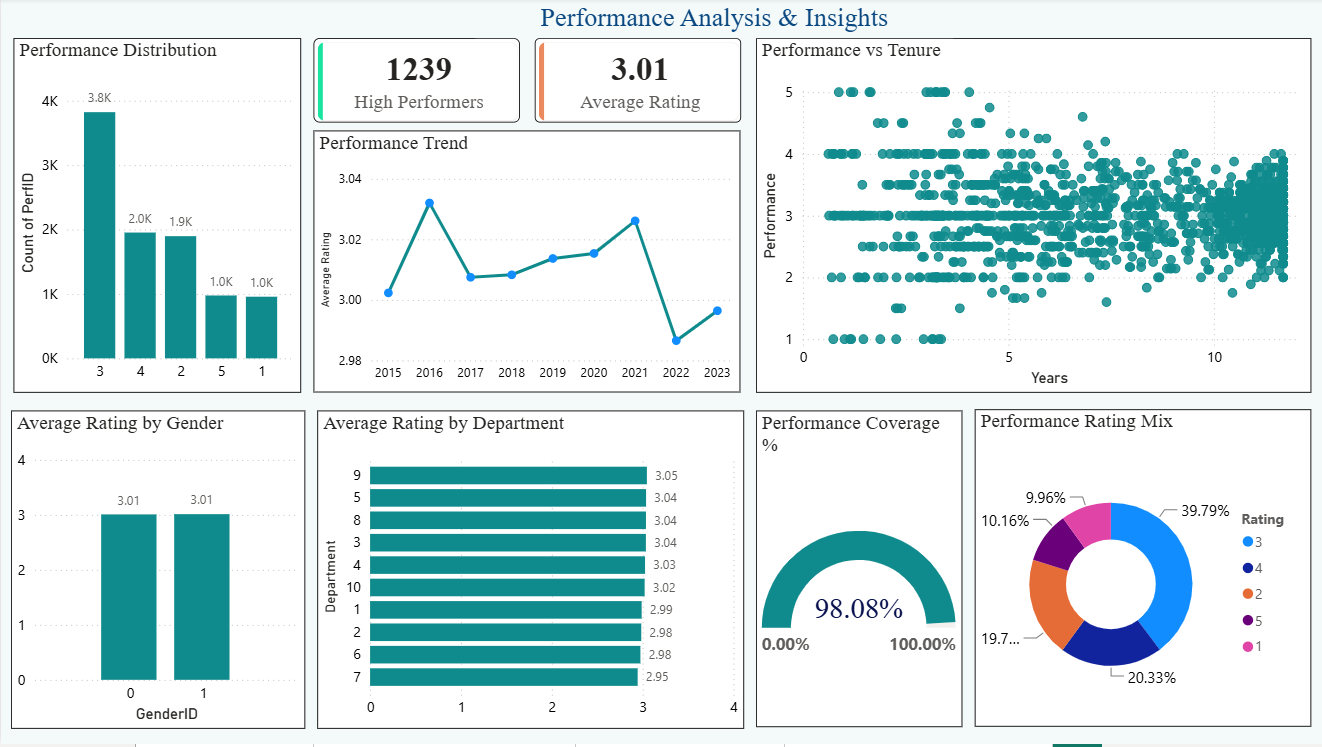

This screenshot's page, from the dashboard's own definition file:
{"tool":"powerbi","page":{"name":"Page 3","canvas":[1280,720],"ordinal":2},"visuals":[{"type":"clusteredColumnChart","title":"Performance Distribution","fields":{"Category":["tbl_Perf.Rating"],"Y":["CountNonNull(tbl_Perf.PerfID)"]},"box":[12.2,39.1,277.6,342.4],"z":0},{"type":"donutChart","title":"Performance Rating Mix","fields":{"Category":["tbl_Perf.Rating"],"Y":["CountNonNull(tbl_Perf.PerfID)"]},"box":[939.8,396.9,324.5,306.4],"z":1000},{"type":"clusteredBarChart","title":"Average Rating by Department","fields":{"Category":["tbl_Employee.DepID"],"Y":["Table.Average Rating"]},"box":[304.9,398.6,412.1,306.9],"z":2000},{"type":"lineChart","title":"Performance Trend","fields":{"Category":["tbl_Perf.PerfDate.Variation.Date Hierarchy.Year"],"Y":["Table.Average Rating"]},"box":[302,128.4,412.1,253.1],"z":3000},{"type":"cardVisual","fields":{"Data":["Table.Average Rating"]},"box":[514.8,39.1,199.3,81.9],"z":4000},{"type":"cardVisual","fields":{"Data":["Table.High Performers"]},"box":[302,39.1,199.3,81.9],"z":5000},{"type":"gauge","fields":{"Y":["Table.Performance Coverage %"]},"box":[728.7,398.1,199.1,305.2],"z":6000},{"type":"scatterChart","title":"Performance vs Tenure","fields":{"Category":["tbl_Employee.EmpID"],"X":["Sum(tbl_Employee.Tenure Years)"],"Y":["Table.Average Rating"]},"box":[728.8,39.1,535.6,342.4],"z":7000},{"type":"clusteredColumnChart","title":"Average Rating by Gender","fields":{"Category":["tbl_Employee.GenderID"],"Y":["Avg(tbl_Perf.Rating)"]},"box":[9.8,398.6,283.7,306.9],"z":8000},{"type":"shape","box":[448.8,0,479.4,39.1],"z":9000}]}

Visuals, with their boxes in screenshot pixels (x1, y1, x2, y2), scaled from the page's 1280x720 canvas onto the 1322x747 screenshot:
"Performance Distribution" clusteredColumnChart: region(13, 41, 299, 396)
"Performance Rating Mix" donutChart: region(971, 412, 1306, 730)
"Average Rating by Department" clusteredBarChart: region(315, 414, 741, 732)
"Performance Trend" lineChart: region(312, 133, 738, 396)
cardVisual - Table.Average Rating: region(532, 41, 738, 126)
cardVisual - Table.High Performers: region(312, 41, 518, 126)
gauge - Table.Performance Coverage %: region(753, 413, 958, 730)
"Performance vs Tenure" scatterChart: region(753, 41, 1306, 396)
"Average Rating by Gender" clusteredColumnChart: region(10, 414, 303, 732)
shape: region(464, 0, 959, 41)
